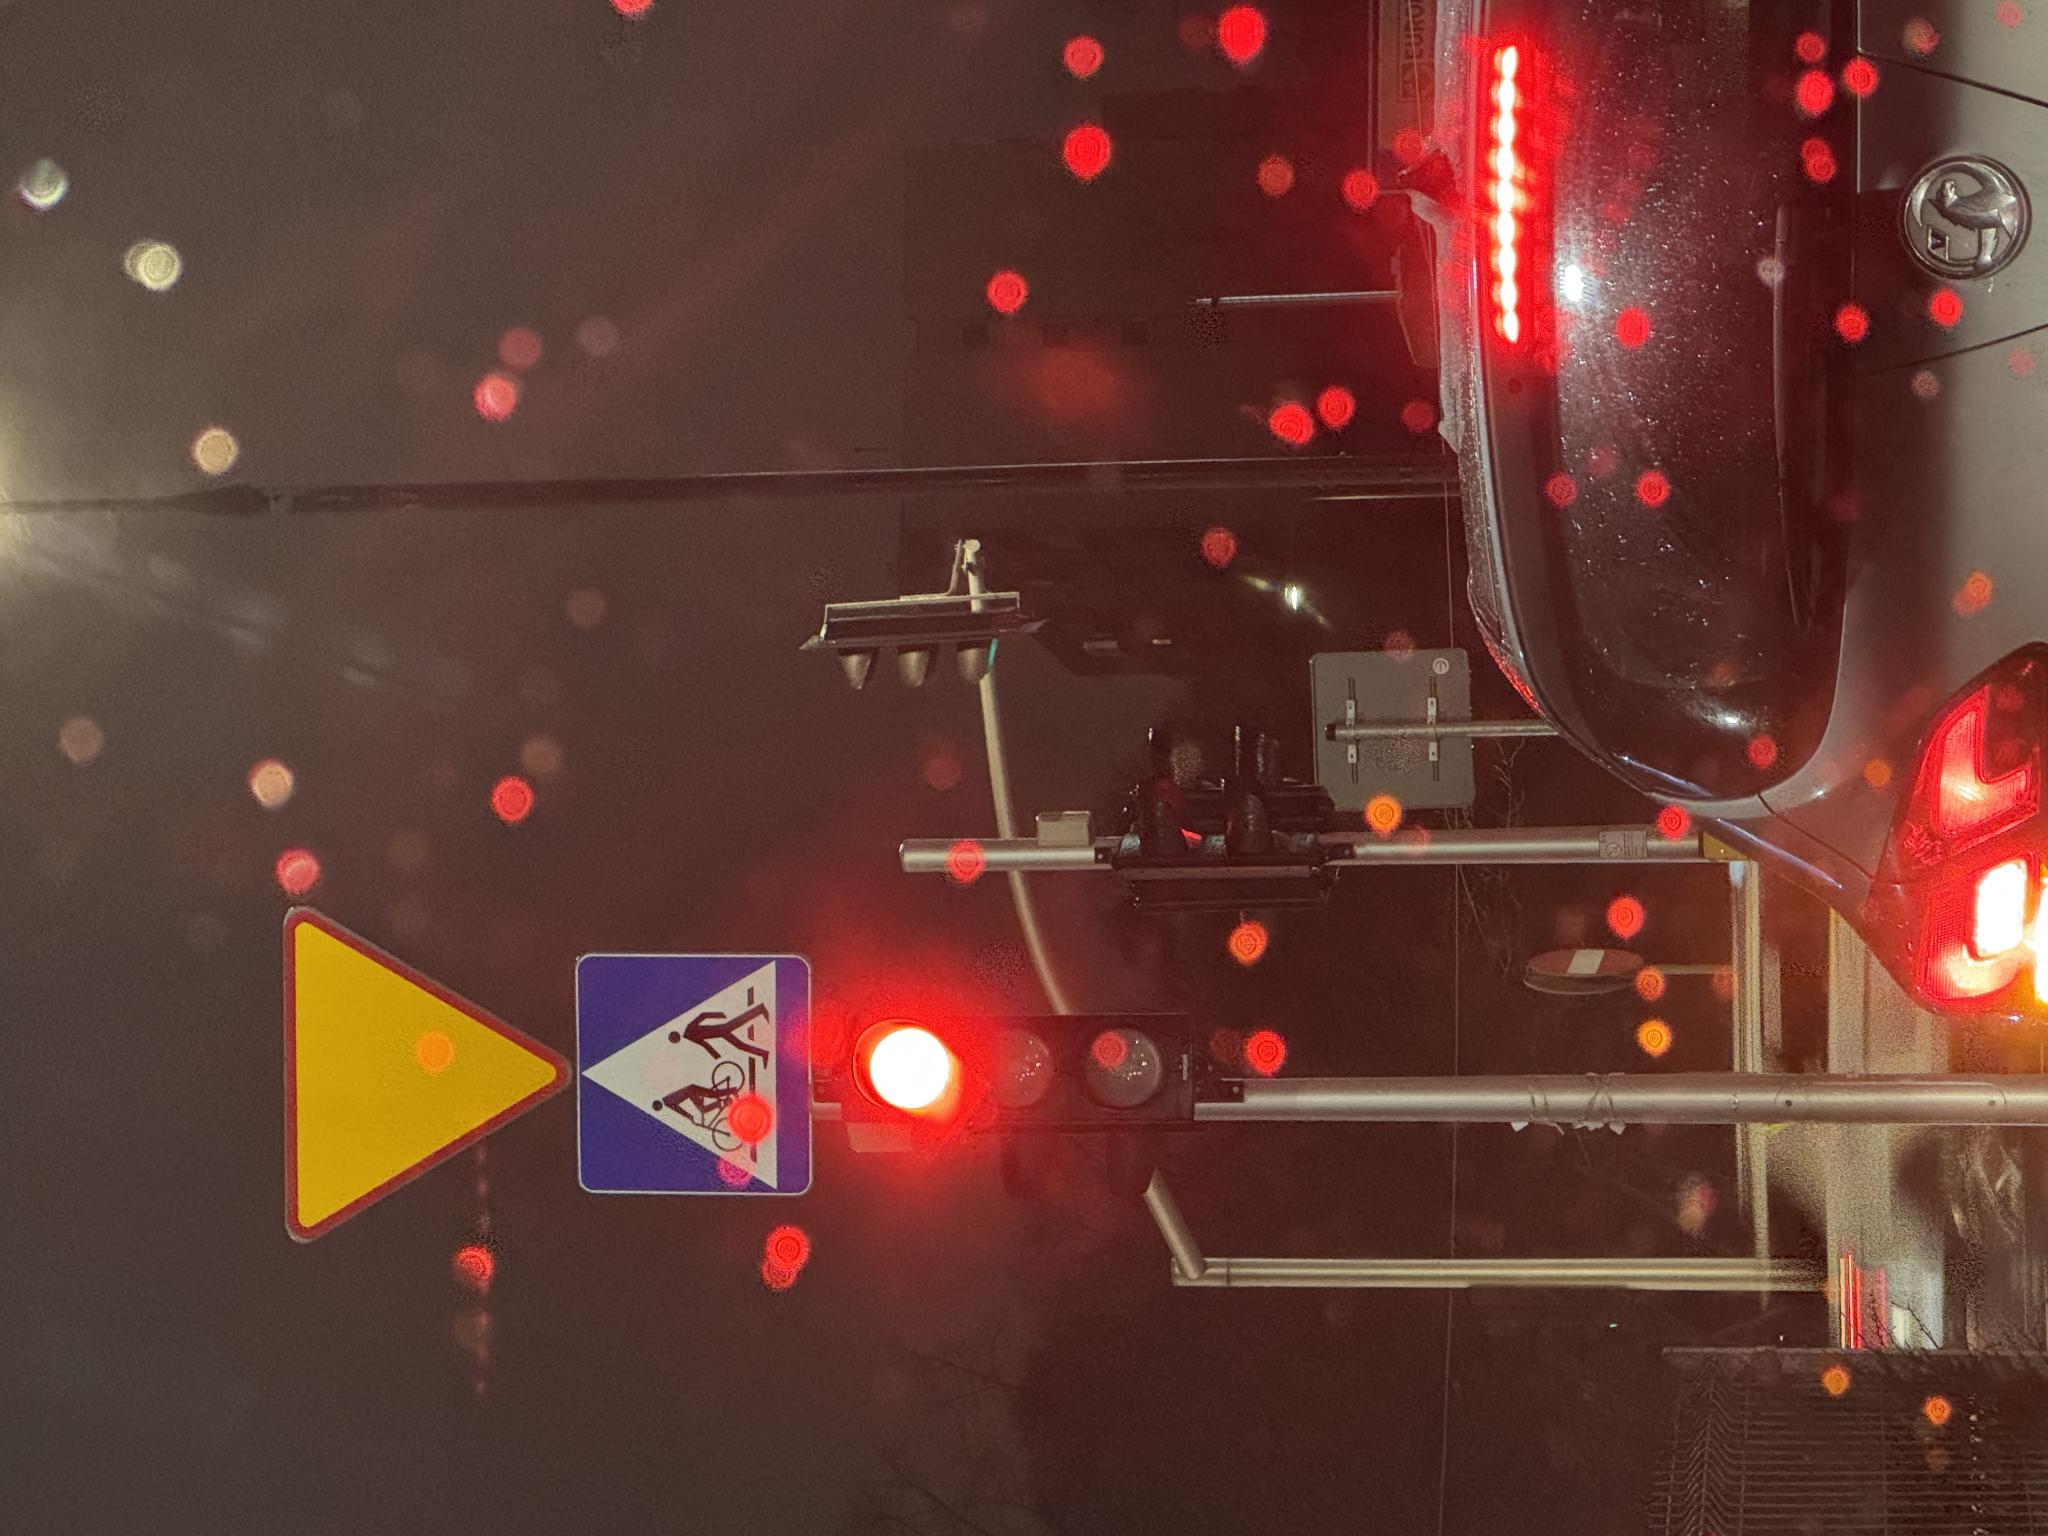information: (335, 570, 590, 821)
warning: (287, 276, 640, 573)
